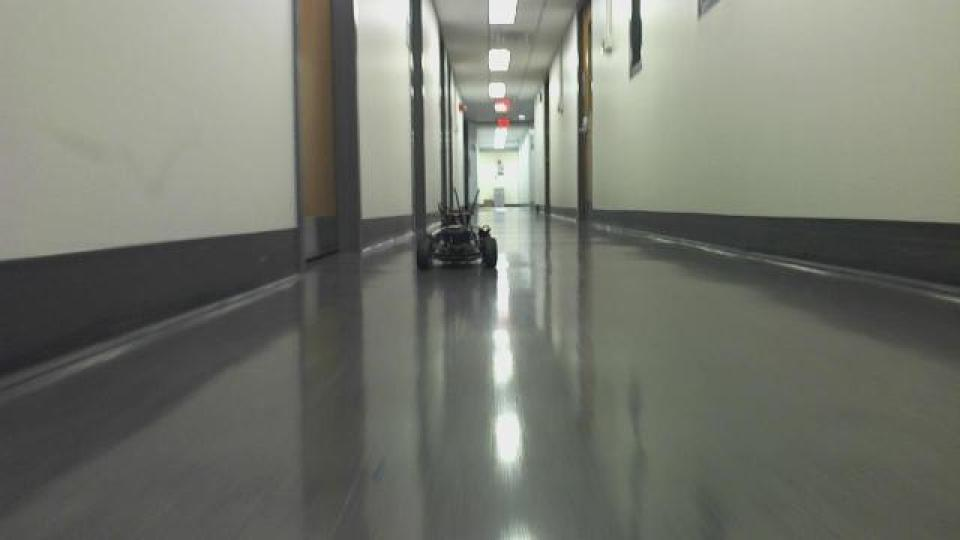car: (414, 185, 500, 273)
